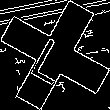L_NE: (29, 25, 81, 85)
